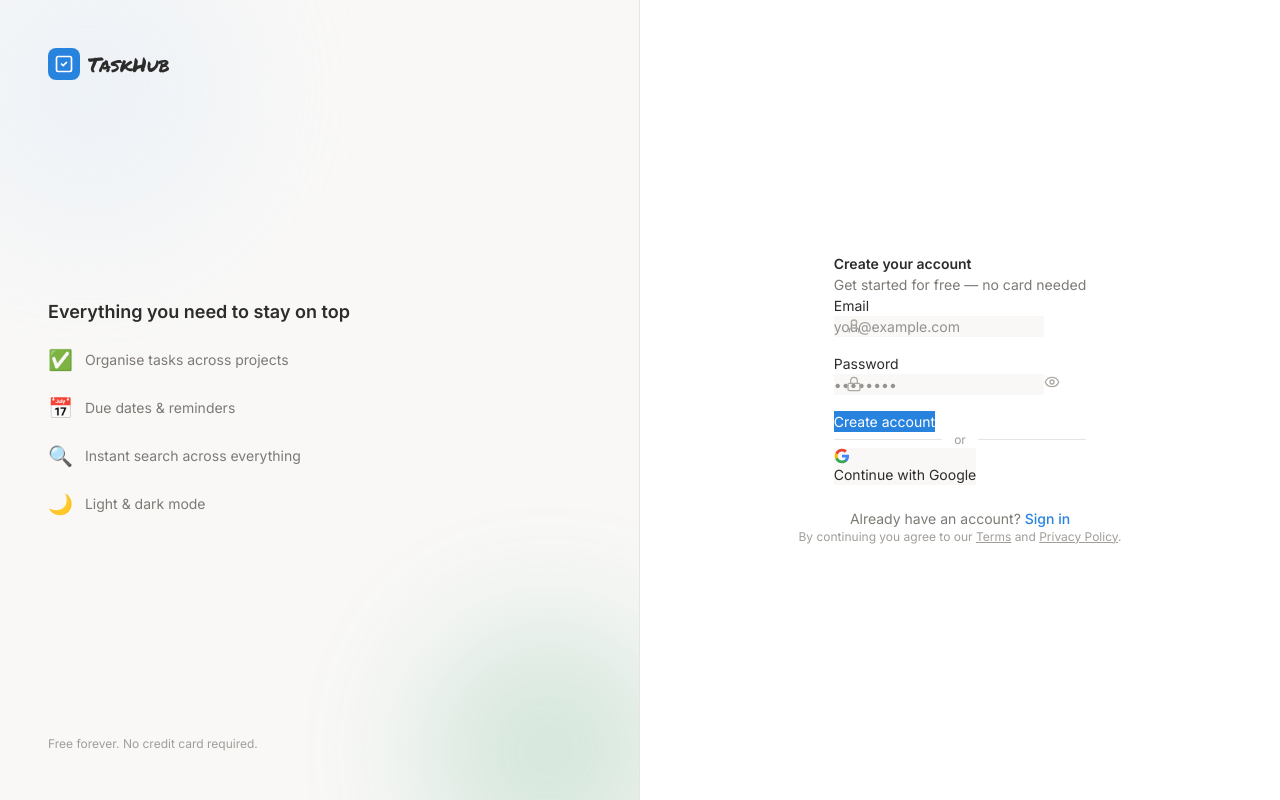
Test: SignupPage › form submission › handles signup failure with error message
In the field labelled "Email": coordinates (939, 326) top-left (834, 316), bottom-right (1044, 337), type "test@example.com"
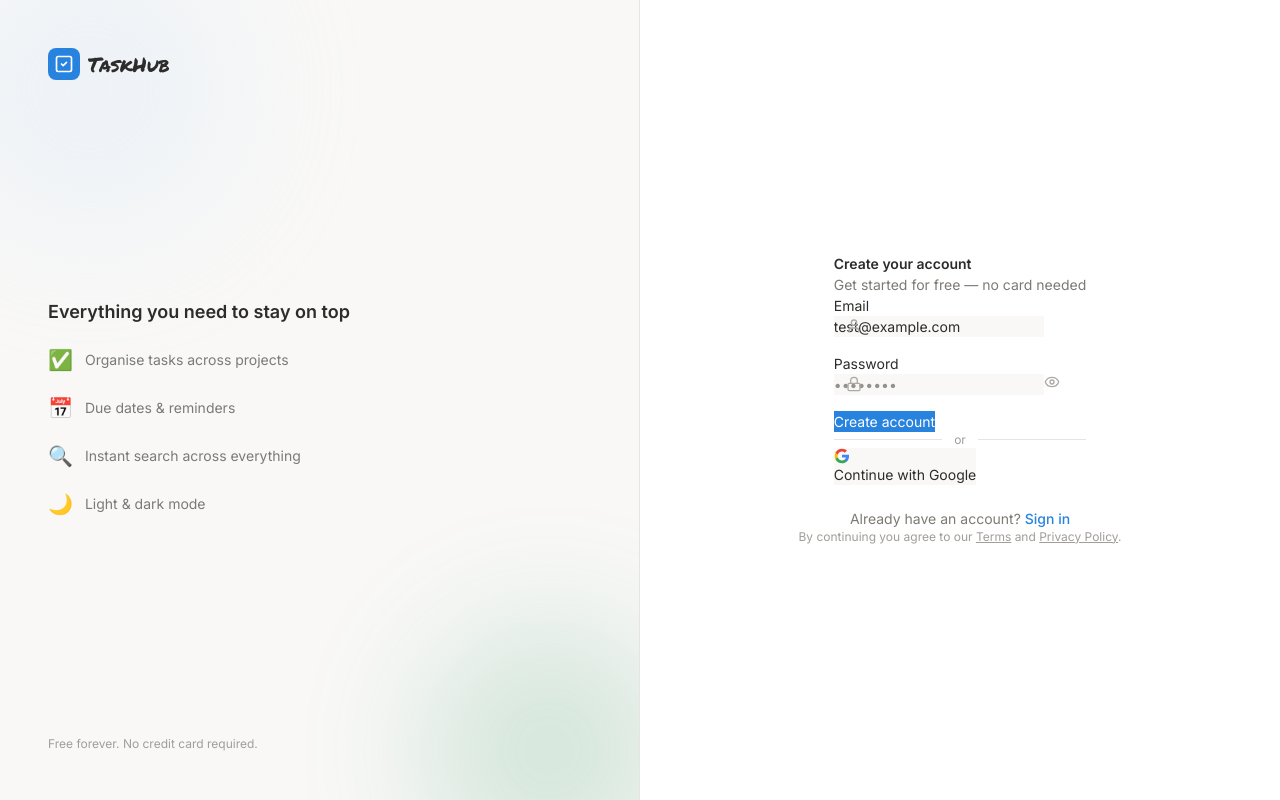
In the password field labelled "Password": coordinates (939, 384) top-left (834, 374), bottom-right (1044, 395), type "password123"
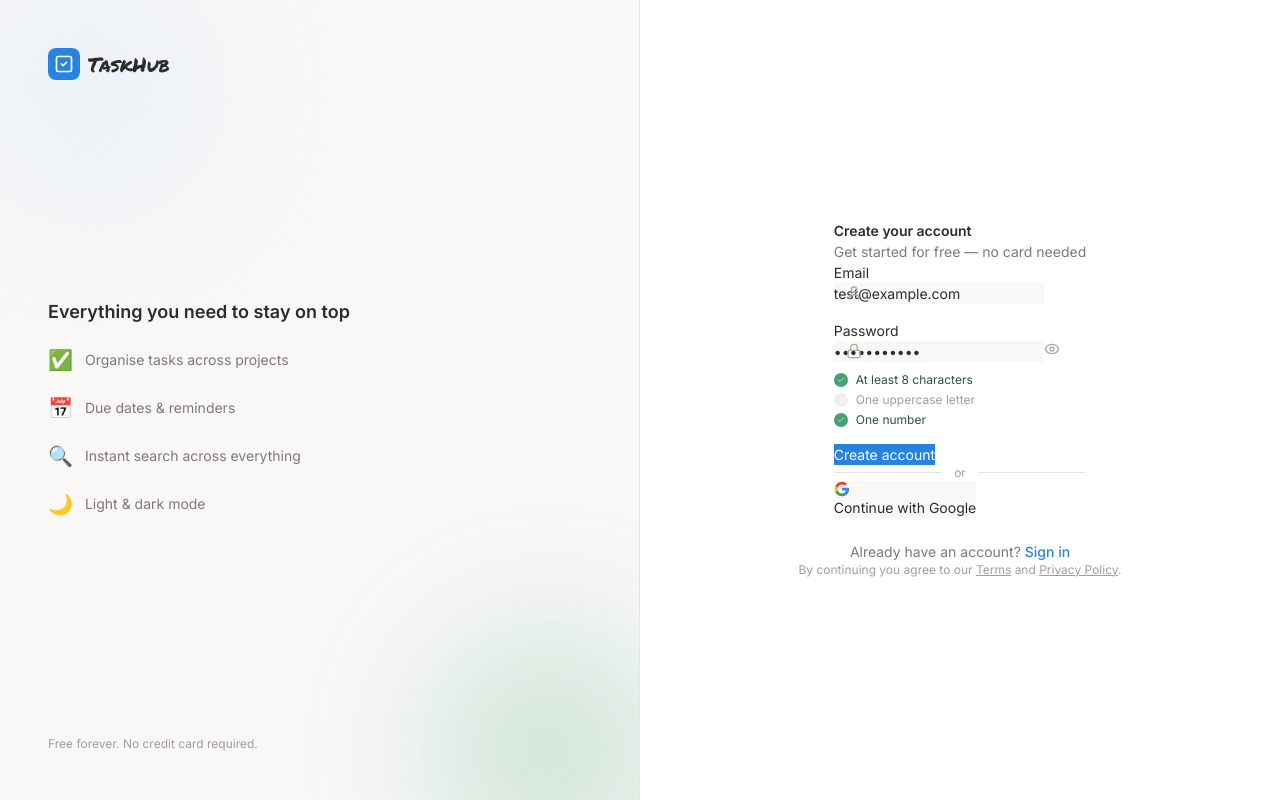
Click the button "Create account": coordinates (884, 454) top-left (834, 444), bottom-right (935, 465)
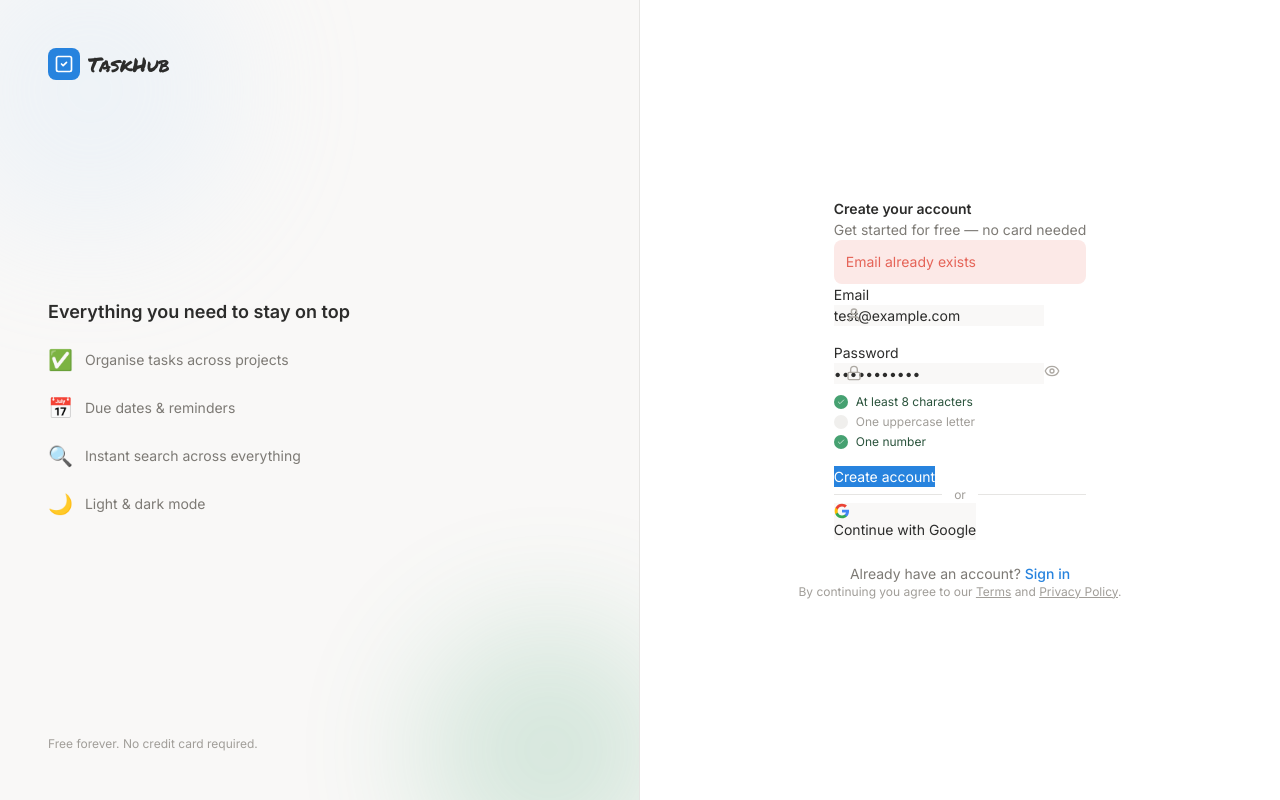
Check: the text "Email already exists" is shown, box top-left (834, 240), bottom-right (1086, 284)
